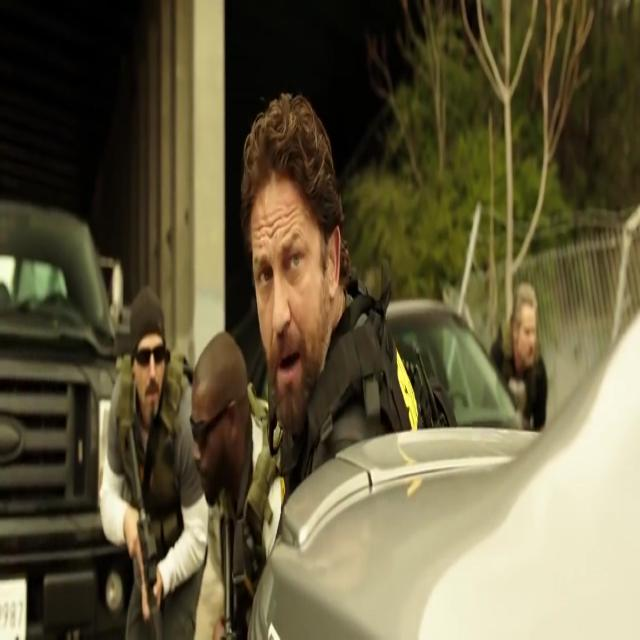Weapon: (111, 367, 180, 626)
